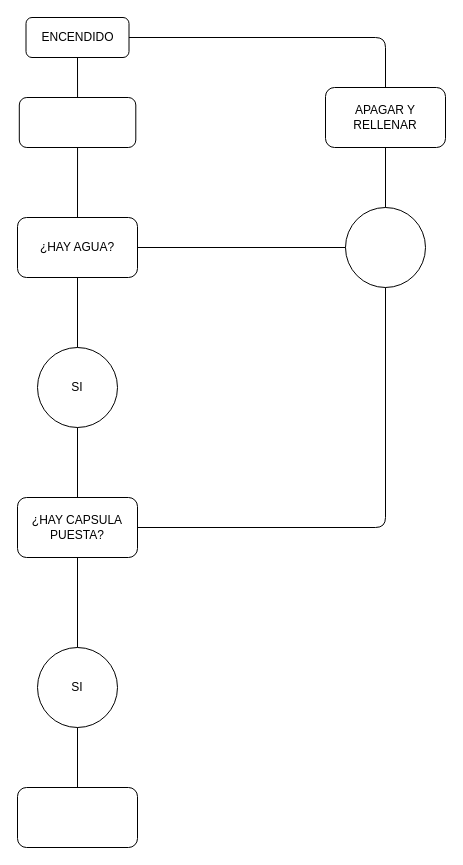
This 463x865 diagram has some shape labels left out. Each missing label, with the centre of its shape:
"COMPROBACION SENSORES Y FUNCIONAMIENTO" belongs at (x=77, y=122).
"ELEGIR MODO DE CAFE" belongs at (x=77, y=817).
"NO" belongs at (x=385, y=247).
